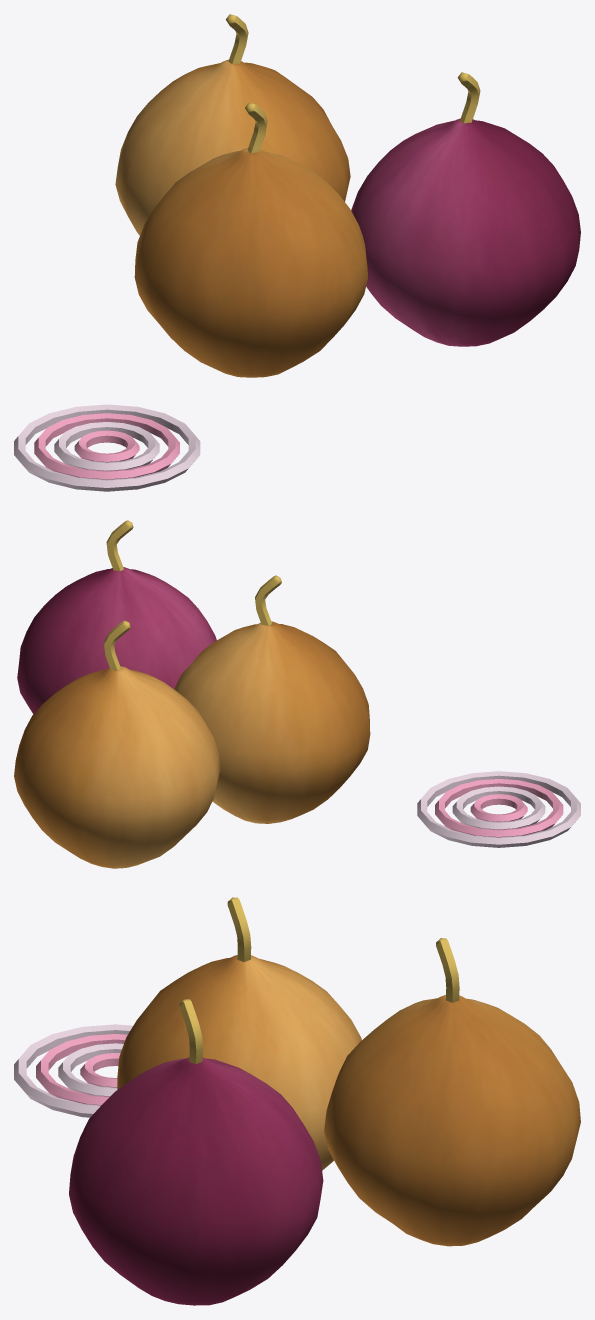
The model's file is veg_onions_assorted.glb.
The picture shows the model from 3 angles, top to bottom: view 1: azimuth 30°, elevation 25°; view 2: azimuth 150°, elevation 25°; view 3: azimuth 270°, elevation 25°; orthographic projection. The views are drawn at different scales.
Visible parts, largest first — view 1: veg_onions_assorted; view 2: veg_onions_assorted; view 3: veg_onions_assorted.
Boxes of the visible parts, bbox=[...] form: veg_onions_assorted: bbox=[14, 14, 580, 491]; veg_onions_assorted: bbox=[14, 520, 580, 868]; veg_onions_assorted: bbox=[14, 897, 580, 1305].
Bounding box in the file's own units: 0.2273 × 0.1 × 0.1769.
Materials: 5 (2 with a texture image).
